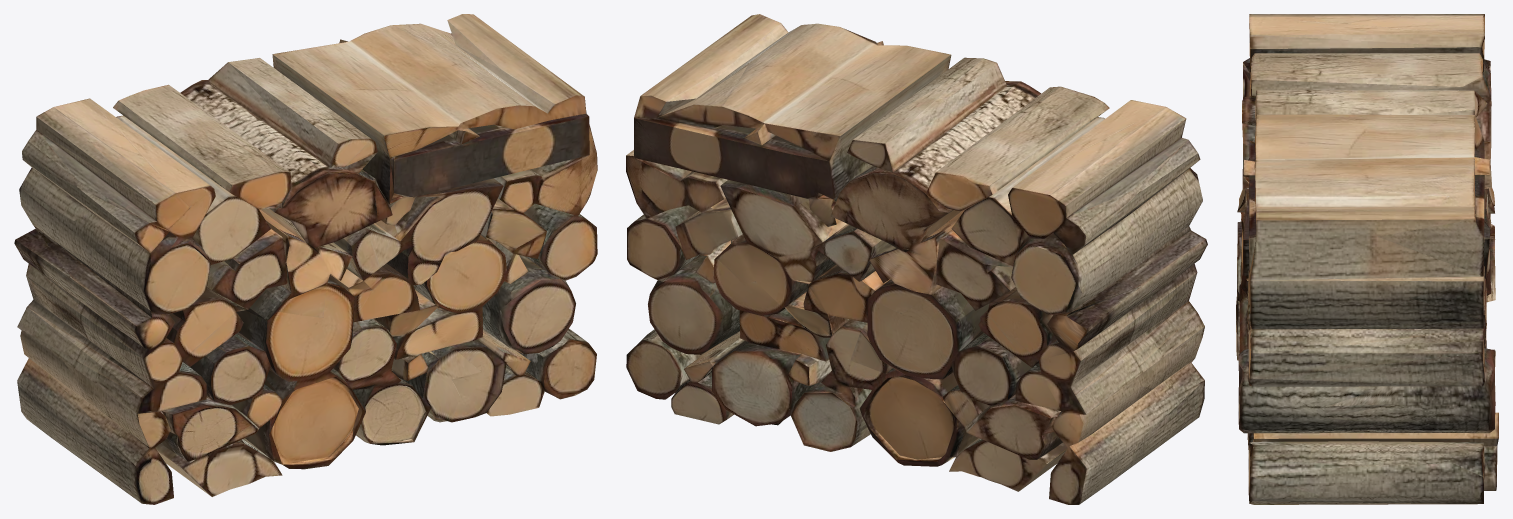
File: woodpile.glb
3 views of the same model, side by side, from view 1: azimuth 30°, elevation 25°; view 2: azimuth 150°, elevation 25°; view 3: azimuth 270°, elevation 25° (orthographic). The views are drawn at different scales.
Size of the model in its own units: 1.9 by 1.23 by 0.9512.
Materials: 1 (1 with a texture image).
